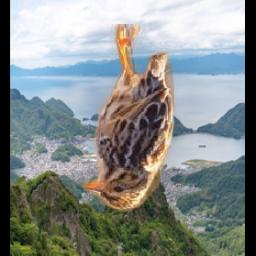Sparrow: (81, 24, 174, 211)
